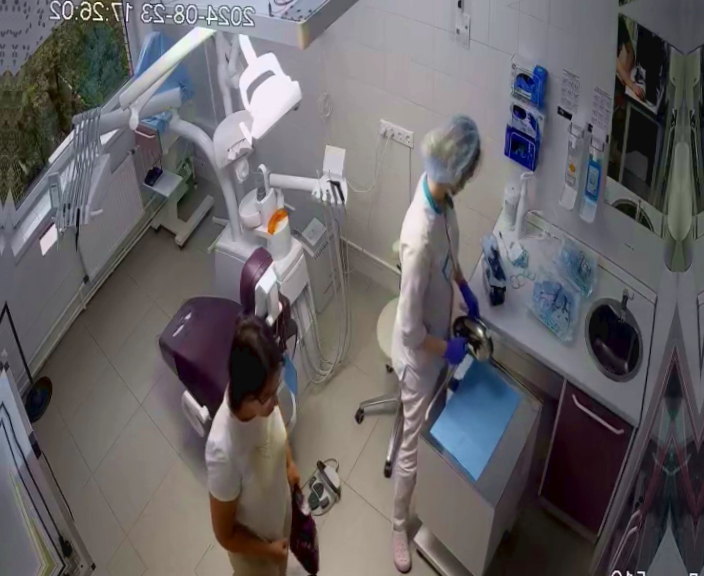Empty: (153, 243, 312, 407)
